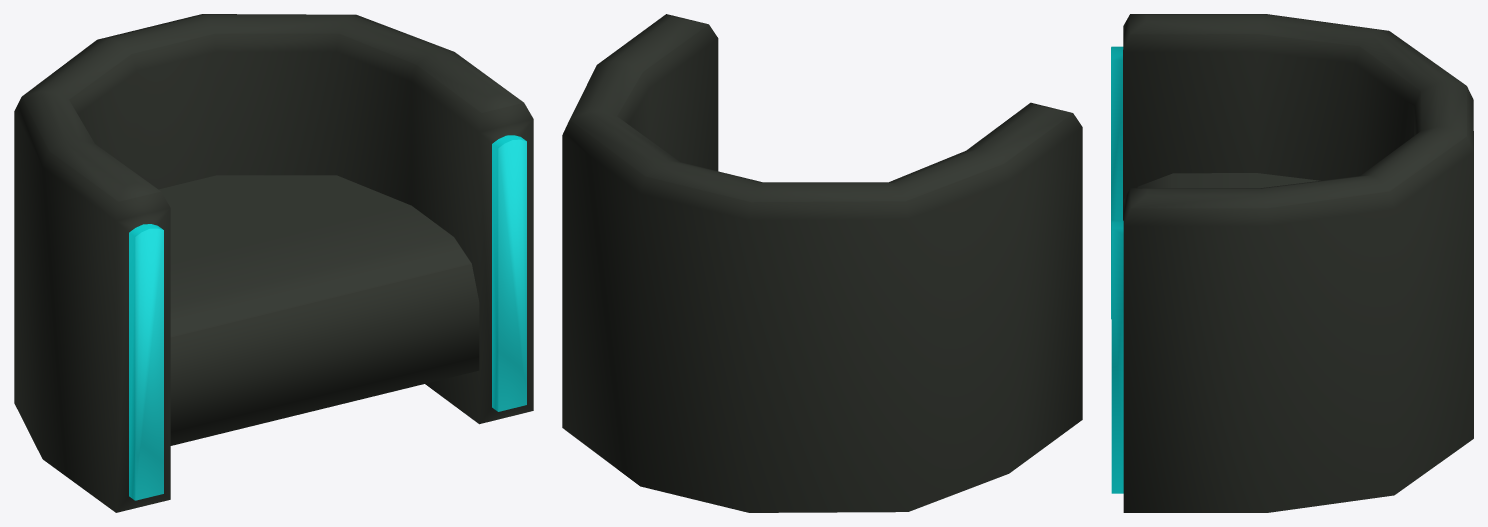
The model's file is Armchair_D.glb.
3 views of the same model, side by side, from view 1: azimuth 30°, elevation 25°; view 2: azimuth 150°, elevation 25°; view 3: azimuth 270°, elevation 25° (orthographic). The views are drawn at different scales.
Parts seen in each view (by area): view 1: ArmchairD; view 2: ArmchairD; view 3: ArmchairD.
Part boxes in pixels (x1=…): ArmchairD: x1=14, y1=14, x2=533, y2=512; ArmchairD: x1=562, y1=14, x2=1082, y2=512; ArmchairD: x1=1111, y1=14, x2=1473, y2=512.
Size of what is drawn, in the model's own units: 1.6 by 1.15 by 1.22.
1 material, 1 textured.
